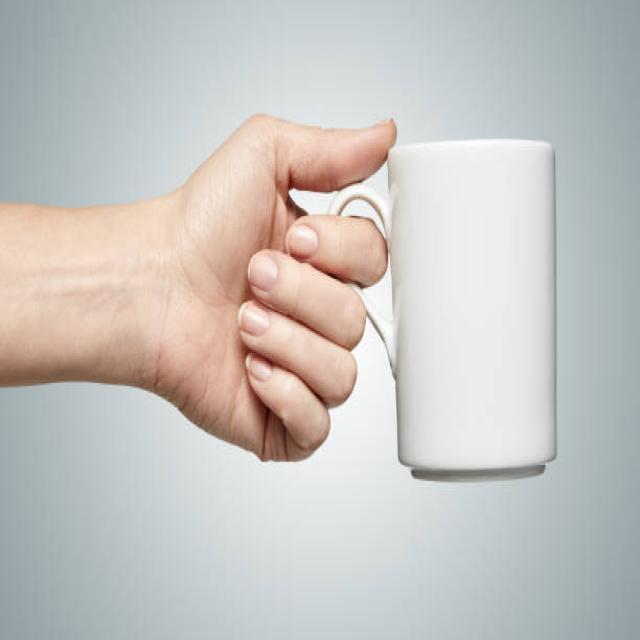Nail: (248, 251, 278, 292), (285, 224, 318, 258), (239, 301, 270, 337), (246, 354, 271, 382)
